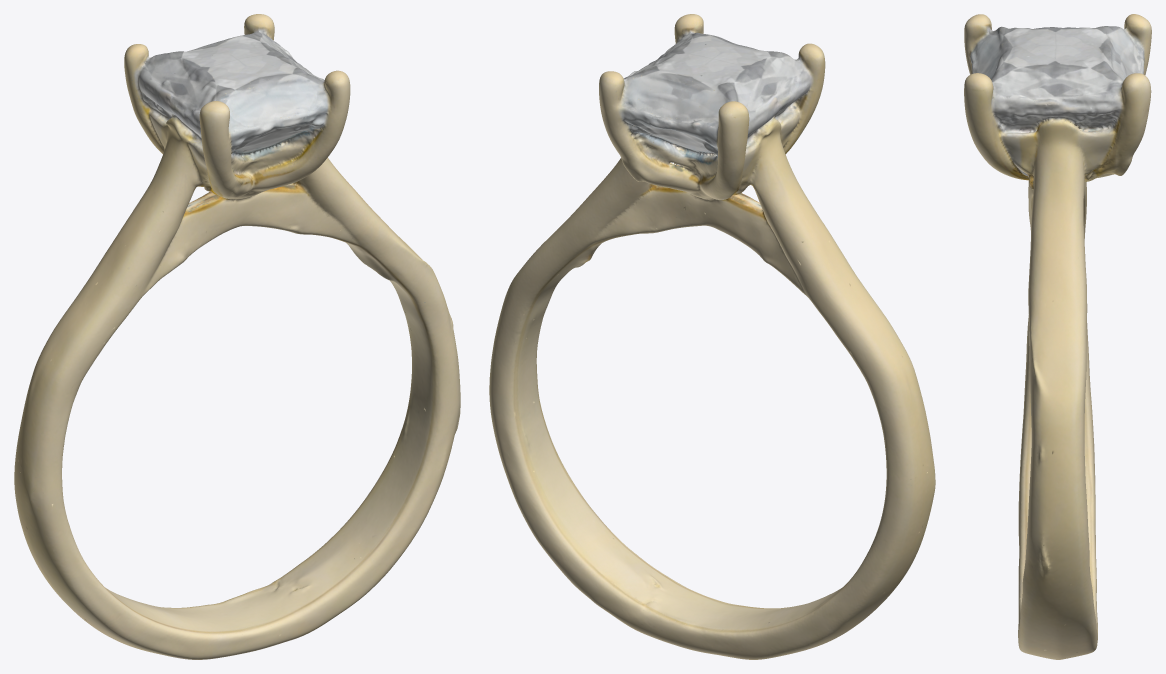
Rendered from princess.glb.
The picture shows the model from 3 angles, left to right: view 1: azimuth 30°, elevation 25°; view 2: azimuth 150°, elevation 25°; view 3: azimuth 270°, elevation 25°; orthographic projection.
Visible parts, largest first — view 1: Mesh_0.001; view 2: Mesh_0.001; view 3: Mesh_0.001.
Part boxes in pixels (bbox=[...]): Mesh_0.001: bbox=[14, 14, 460, 659]; Mesh_0.001: bbox=[489, 14, 935, 659]; Mesh_0.001: bbox=[964, 14, 1151, 659].
Bounding box in the file's own units: 1.54 × 2 × 0.5767.
Materials: 1 (1 with a texture image).
